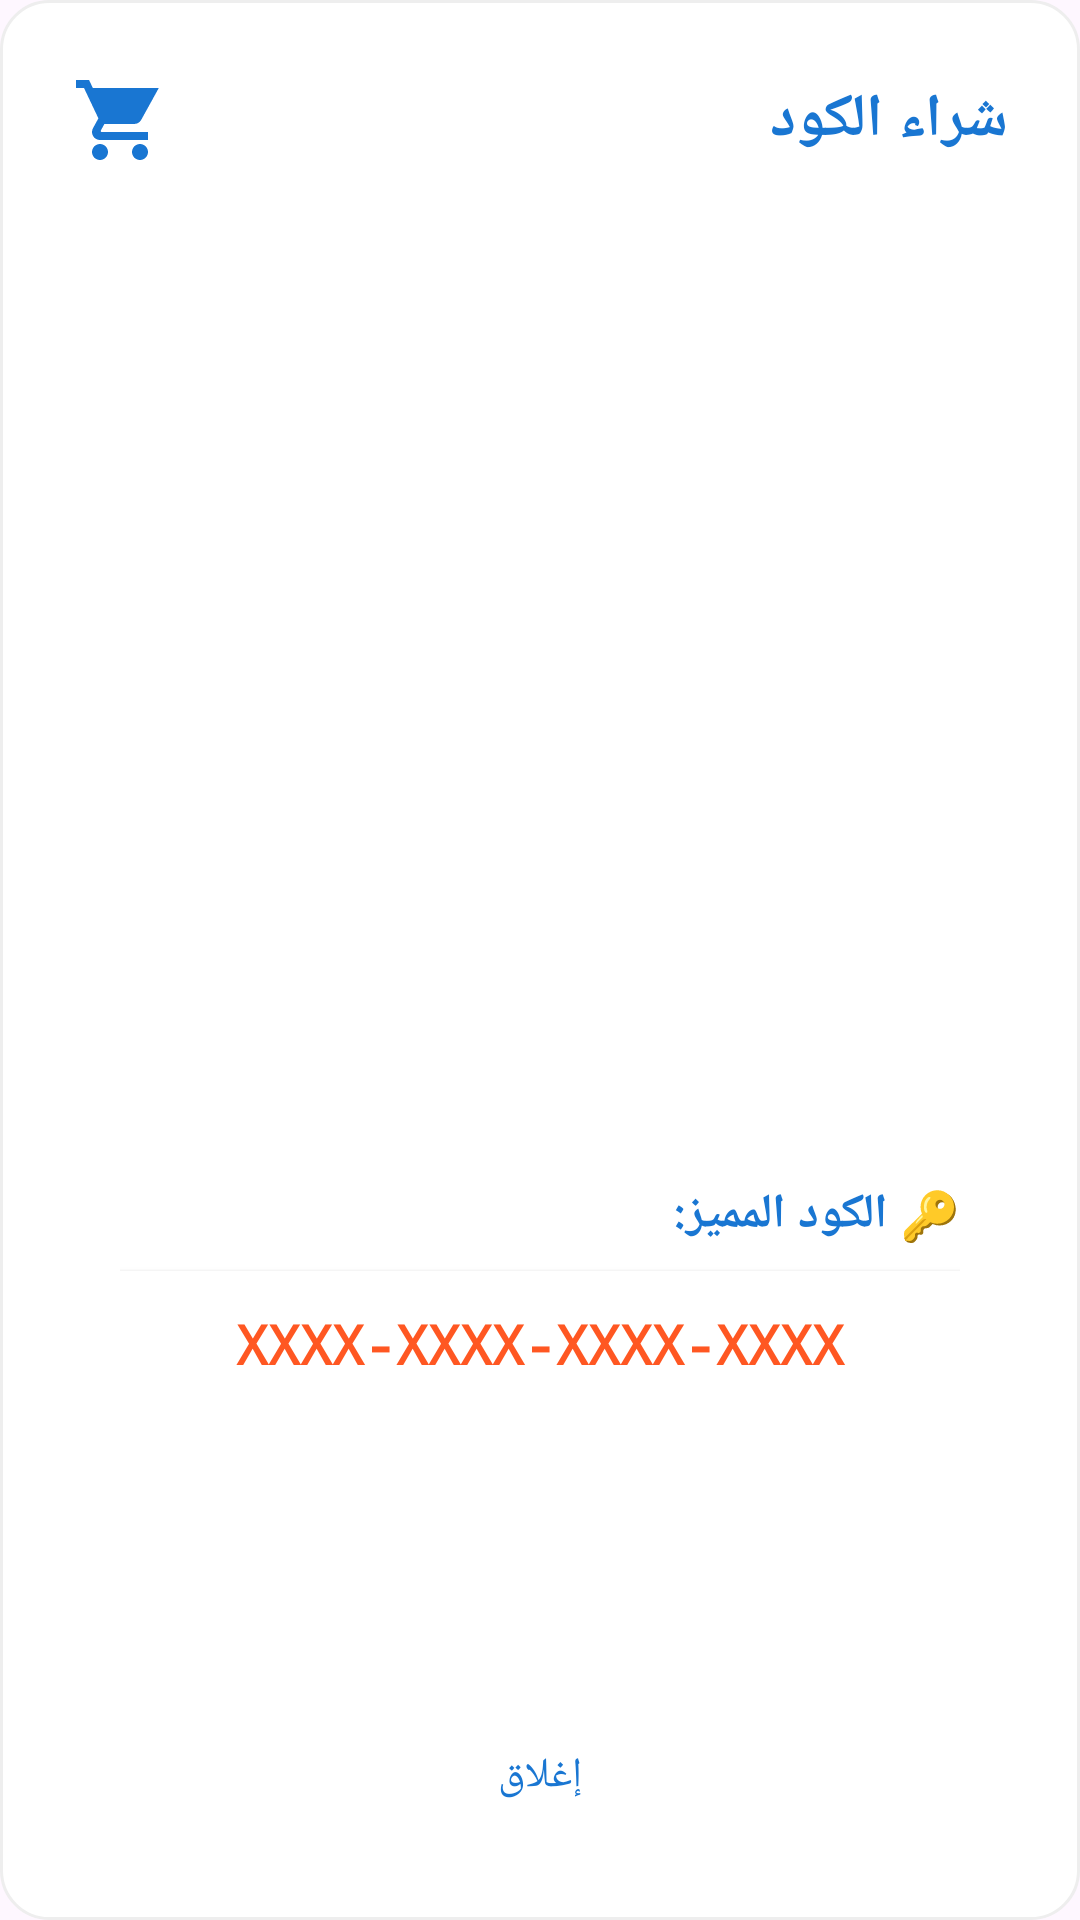

Where icons sit on this 1080*1920 app screen, as detection(x1, y1, x2, y2):
shopping cart: detection(76, 80, 159, 160)
